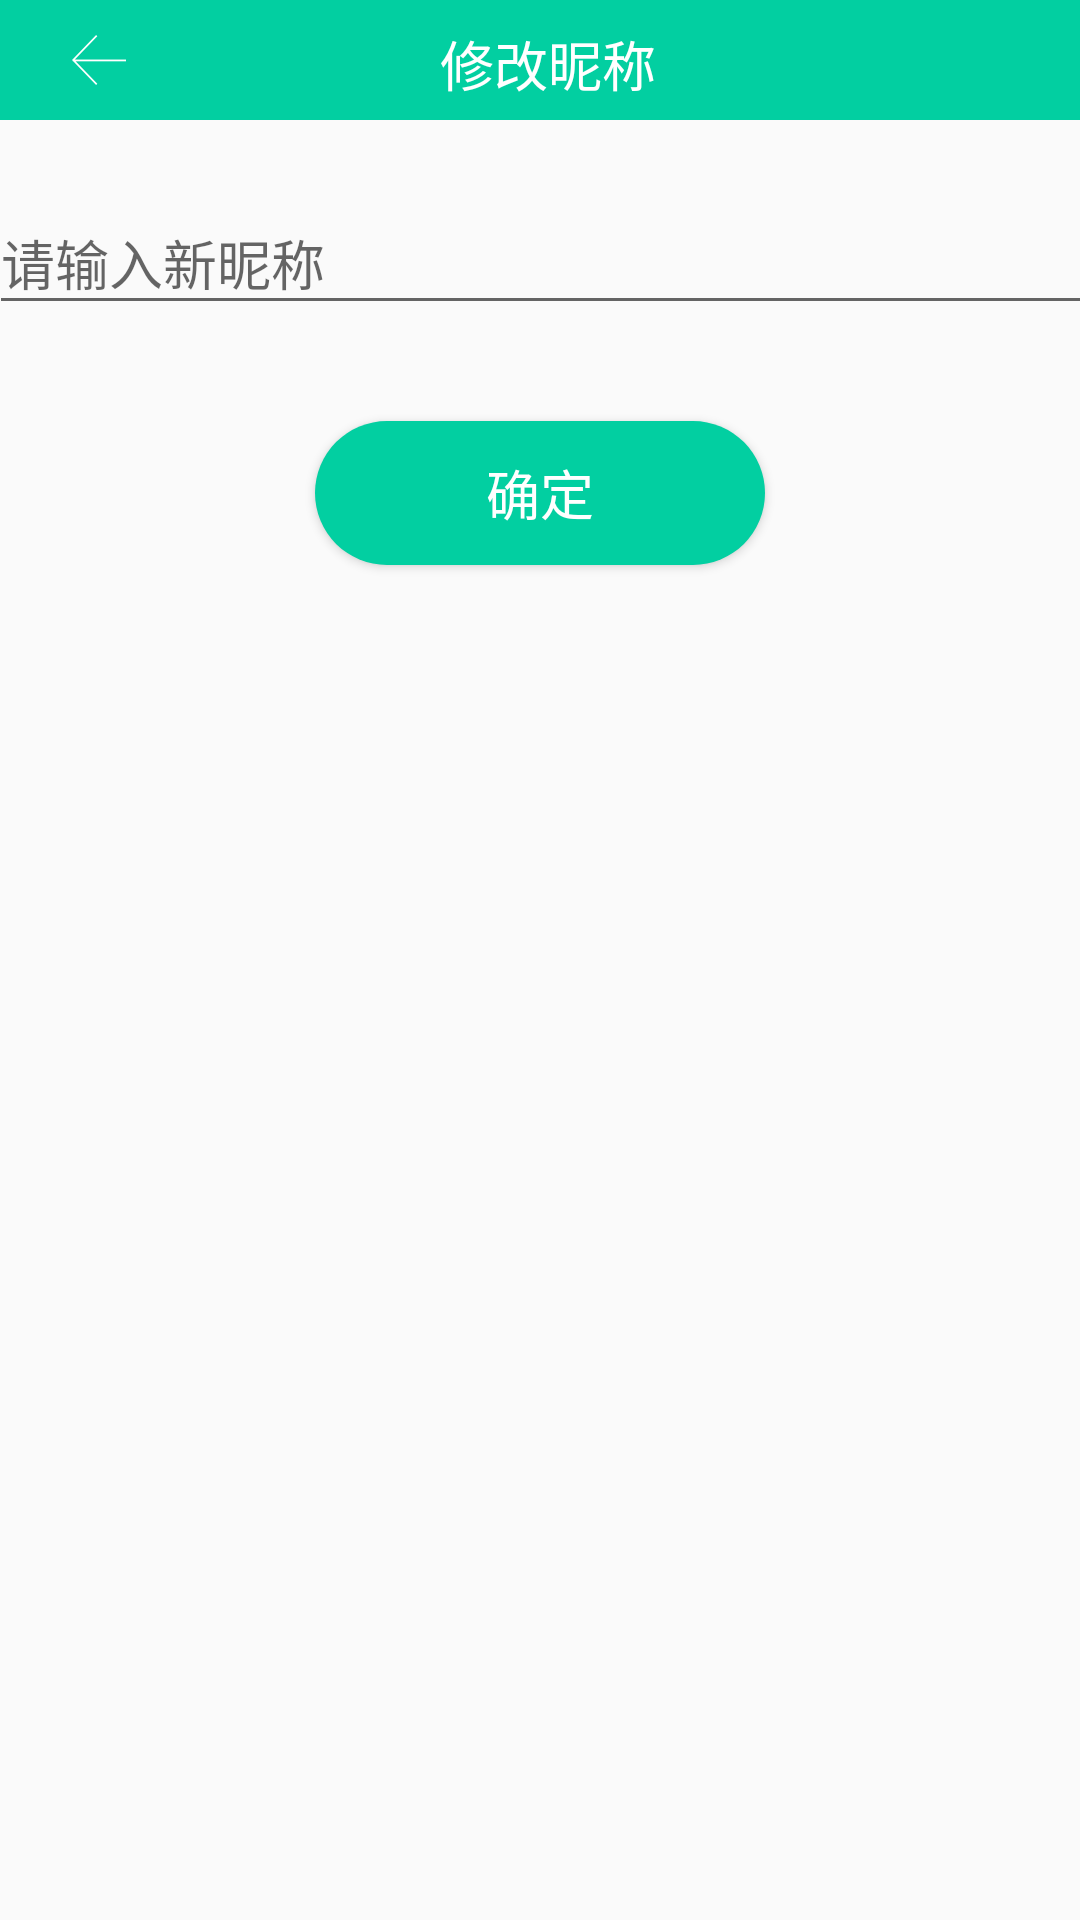

Named icons in this screenshot (1080w x 1920h) and their bounding boxes, (x1, y1, x2, y2):
back: (72, 35, 126, 85)
